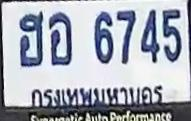4: (140, 9, 159, 63)
5: (162, 9, 181, 63)
6: (94, 11, 114, 64)
7: (116, 9, 136, 64)
A43: (48, 11, 73, 66)
A44: (18, 11, 44, 67)
BKK: (29, 84, 167, 106)
